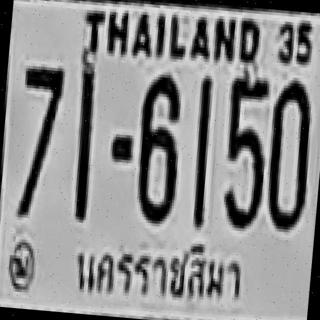N00: (262, 76, 314, 230)
N01: (189, 74, 213, 206)
N06: (131, 70, 183, 222)
N07: (13, 64, 64, 202), (15, 62, 64, 176), (16, 64, 64, 163)
P30: (66, 234, 251, 311)
